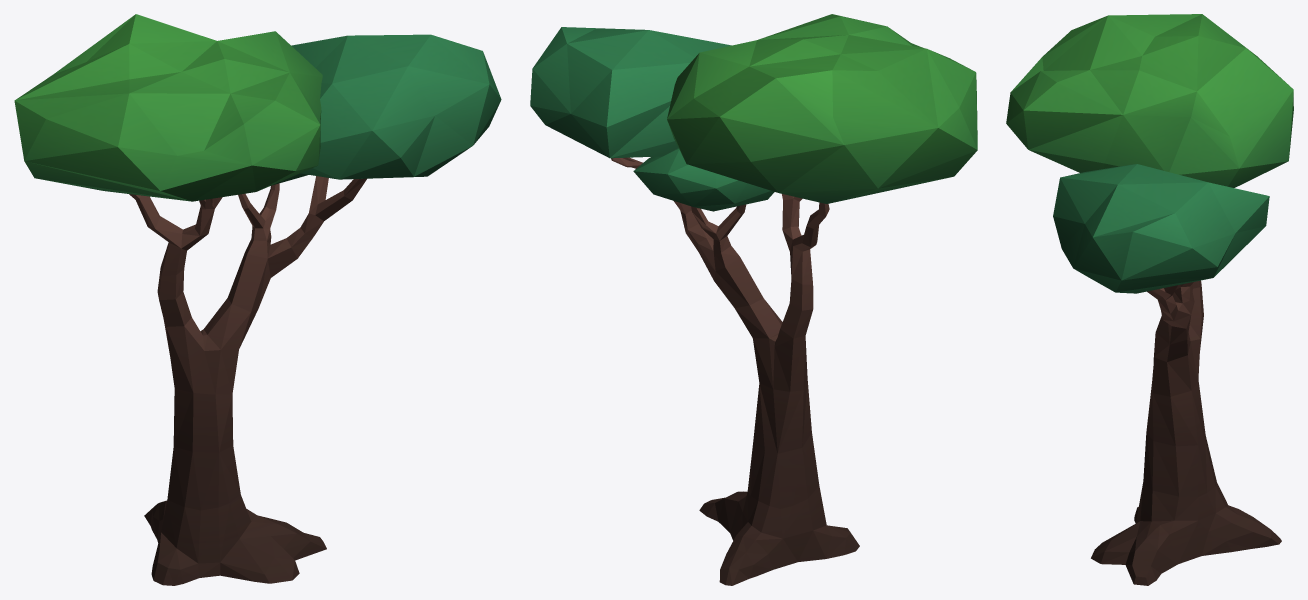
The model's file is ZLP_Plant_C_3.FBX.
The picture shows the model from 3 angles, left to right: view 1: azimuth 30°, elevation 25°; view 2: azimuth 150°, elevation 25°; view 3: azimuth 270°, elevation 25°; orthographic projection. The views are drawn at different scales.
Visible parts, largest first — view 1: ZLP_Plant_C_3; view 2: ZLP_Plant_C_3; view 3: ZLP_Plant_C_3.
Part boxes in pixels (box(x1,y1,x2,y2)): ZLP_Plant_C_3: box(14, 14, 501, 585); ZLP_Plant_C_3: box(530, 14, 977, 585); ZLP_Plant_C_3: box(1006, 14, 1293, 585).
Size of the model in its own units: 389 by 423 by 231.
